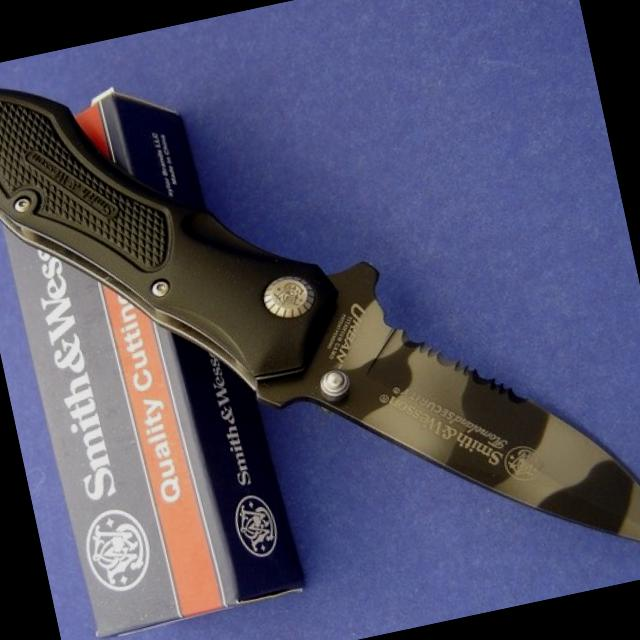knife: (258, 232, 639, 633)
